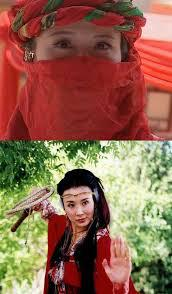NONE: (66, 198, 95, 227)
OK: (44, 26, 116, 98)
